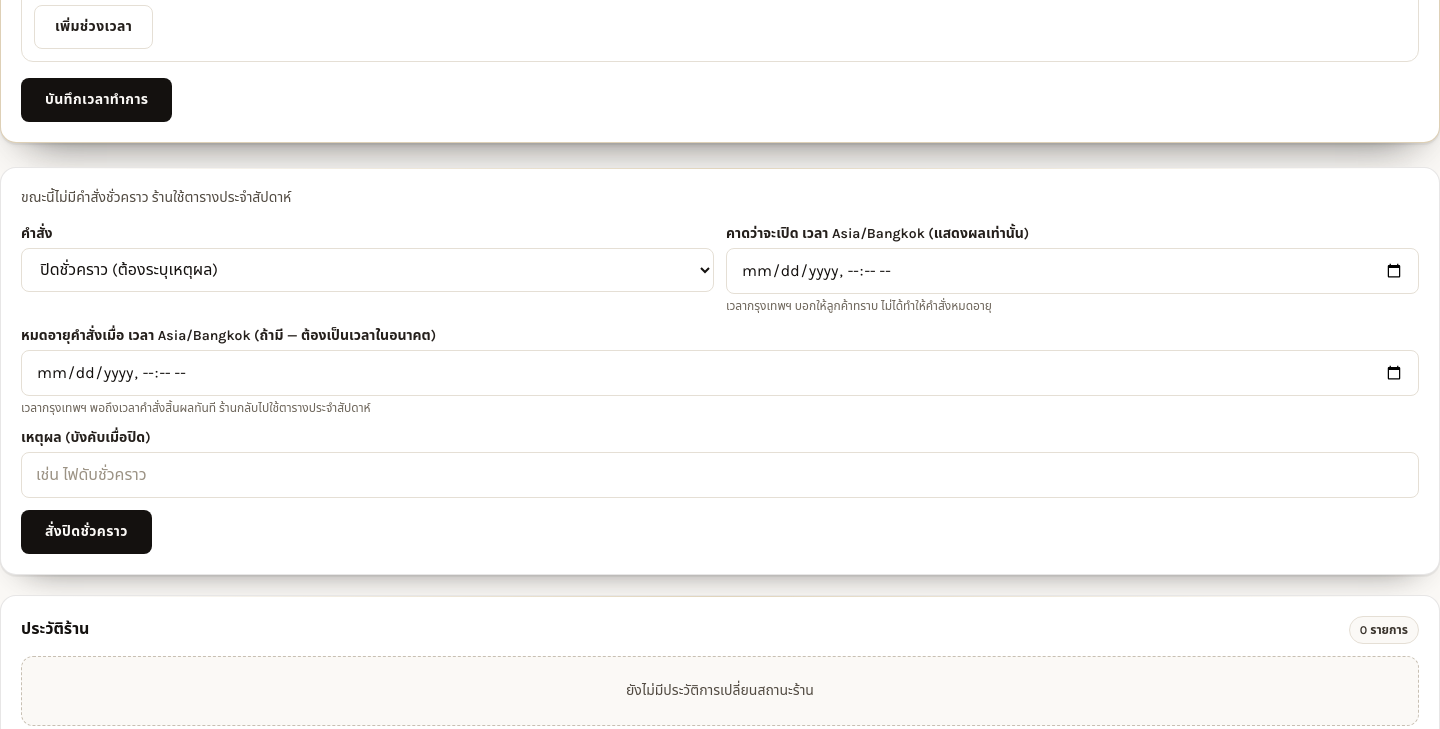
หน้าจัดการร้าน (Owner/Admin) › สั่งปิดพร้อมวันหมดอายุส่ง expiresAt แยกจากคาดว่าจะเปิด
This screenshot has width=1440, height=729.
(page scrolled)
Step 1. Type "ไฟดับ" into the field labelled "เหตุผล (บังคับเมื่อปิด)" → (720, 474), box x1=21 y1=452 x2=1419 y2=498
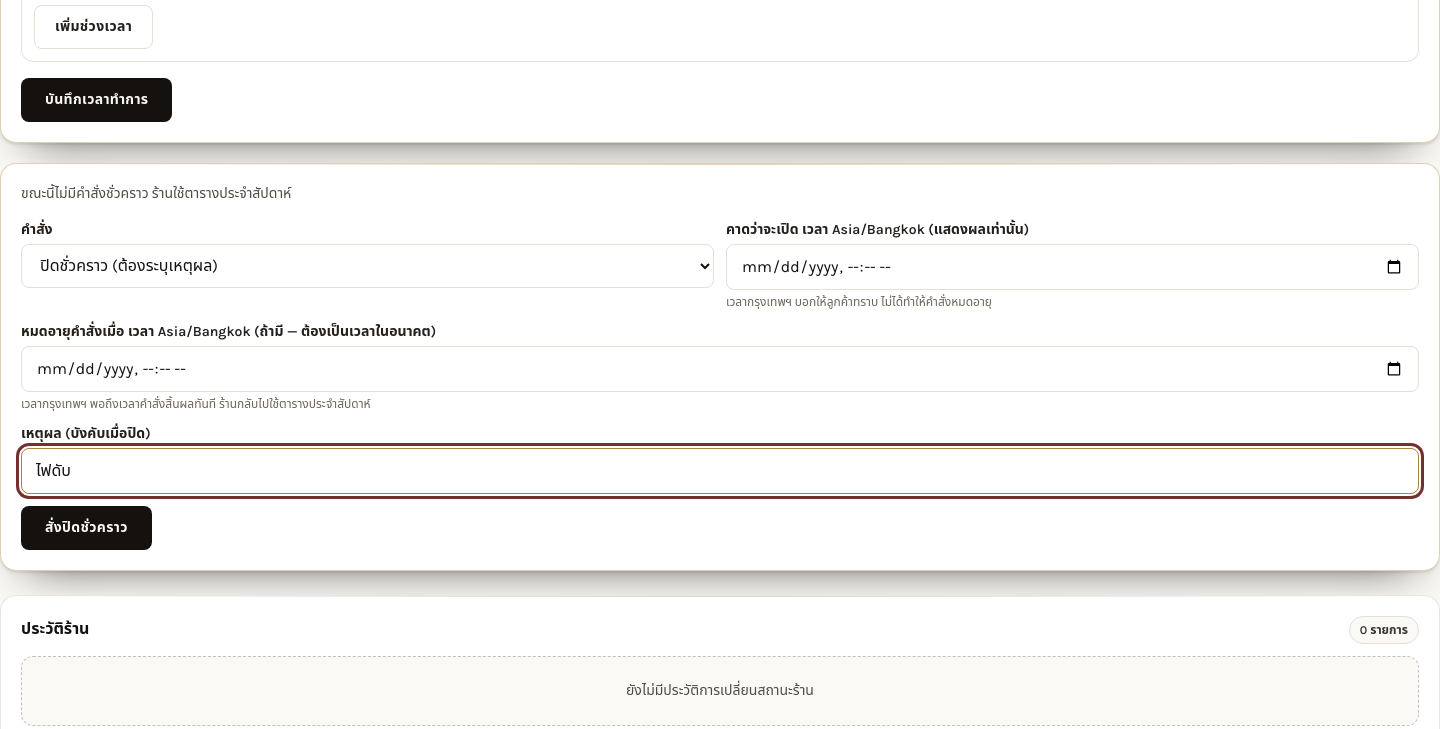
Note: datetime-local ตั้งค่าตรง (user.type กับ input ชนิดนี้ใน jsdom ไม่เสถียร)
Step 2. Type "2026-09-08T06:00" into the field labelled "หมดอายุคำสั่งเมื่อ" → (720, 368), box x1=21 y1=346 x2=1419 y2=392
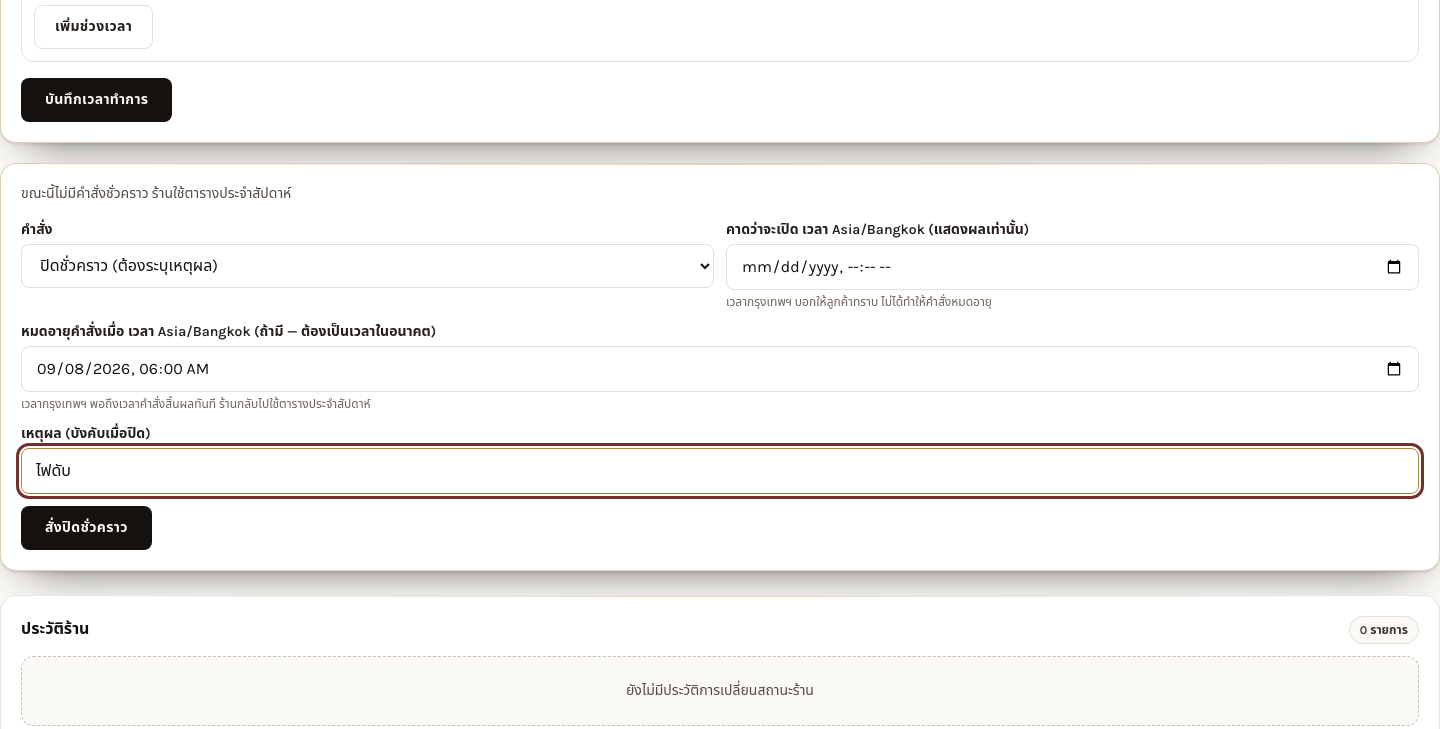
Step 3. Click the button "สั่งปิดชั่วคราว" → (86, 528), box x1=21 y1=506 x2=152 y2=550
(page scrolled)
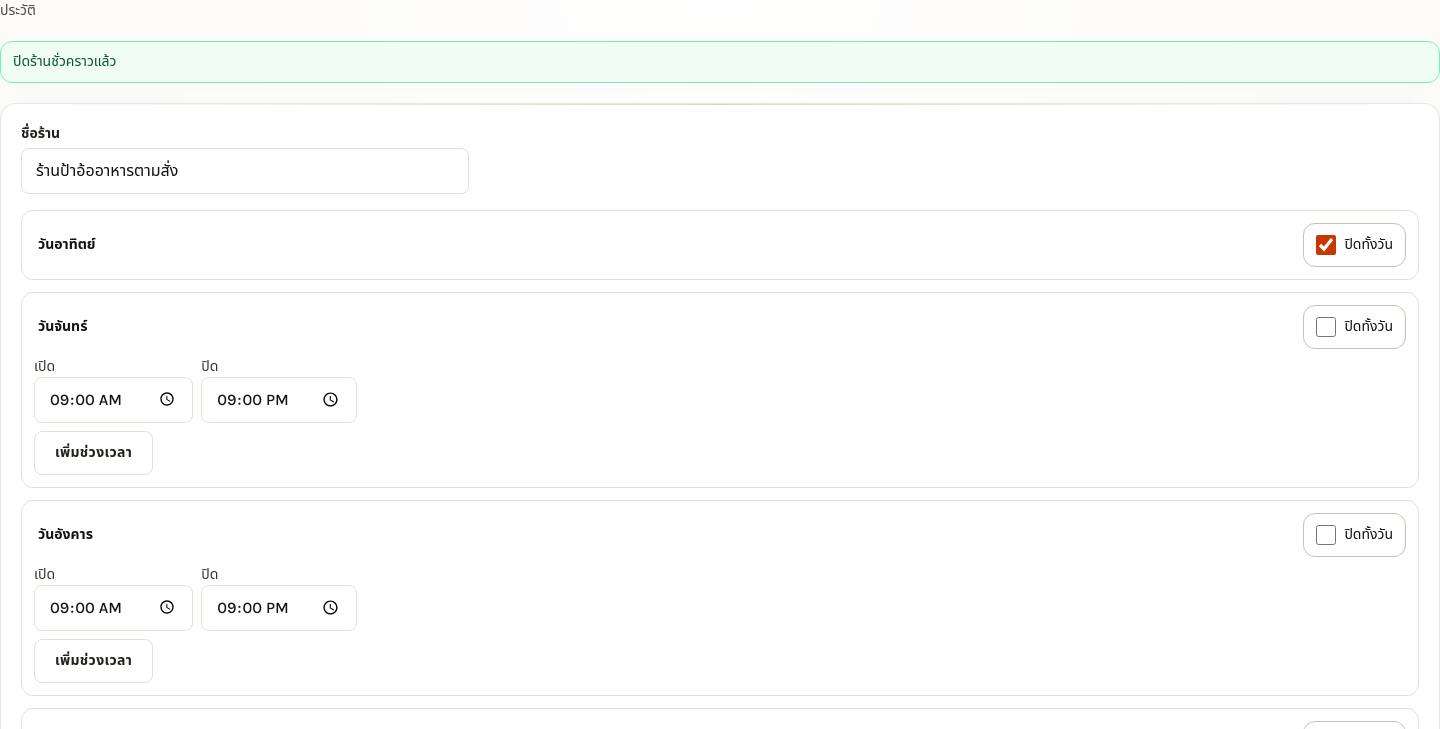
Check: the message reads "ปิดร้านชั่วคราวแล้ว", box x1=13 y1=52 x2=116 y2=70
